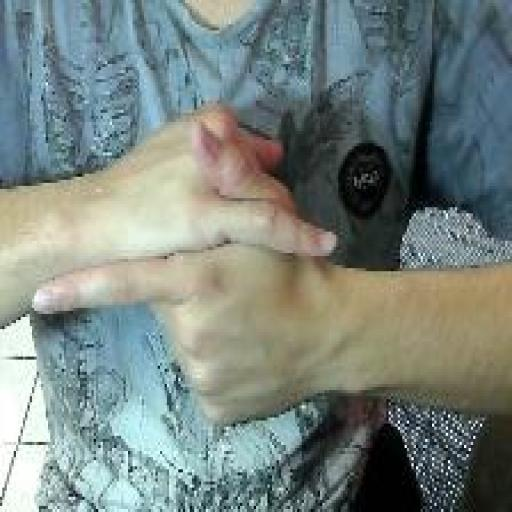U -hare-: (28, 99, 340, 437)
